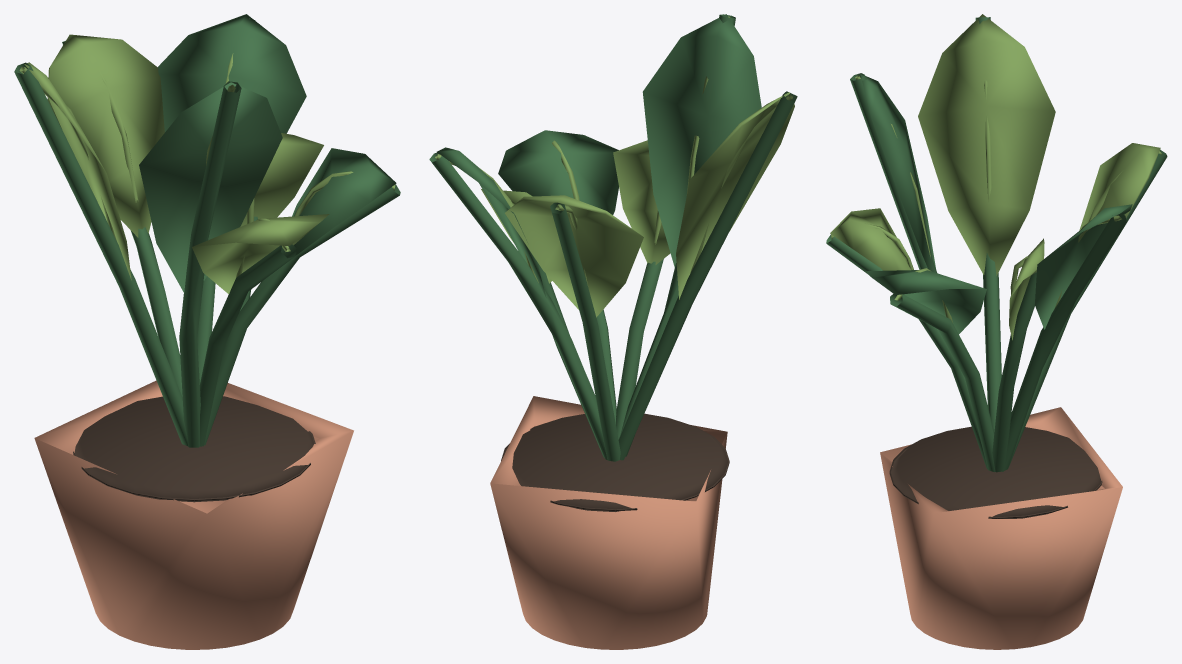
File: plant.glb
The picture shows the model from 3 angles, left to right: view 1: azimuth 30°, elevation 25°; view 2: azimuth 150°, elevation 25°; view 3: azimuth 270°, elevation 25°; orthographic projection. The views are drawn at different scales.
Visible parts, largest first — view 1: Crafted_leaf, Crafted_ceramic, Crafted_lightleaf, Crafted_soil; view 2: Crafted_leaf, Crafted_ceramic, Crafted_lightleaf, Crafted_soil; view 3: Crafted_lightleaf, Crafted_ceramic, Crafted_leaf, Crafted_soil.
Boxes of the visible parts, bbox=[...] form: Crafted_leaf: bbox=[14, 14, 400, 447]; Crafted_ceramic: bbox=[34, 380, 353, 649]; Crafted_lightleaf: bbox=[19, 34, 395, 294]; Crafted_soil: bbox=[73, 396, 315, 502]; Crafted_leaf: bbox=[429, 14, 797, 461]; Crafted_ceramic: bbox=[490, 396, 727, 649]; Crafted_lightleaf: bbox=[435, 16, 794, 317]; Crafted_soil: bbox=[501, 413, 729, 511]; Crafted_lightleaf: bbox=[830, 14, 1162, 340]; Crafted_ceramic: bbox=[880, 407, 1122, 649]; Crafted_leaf: bbox=[826, 17, 1167, 472]; Crafted_soil: bbox=[889, 426, 1102, 518].
Bounding box in the file's own units: 0.4294 × 0.7259 × 0.4296.
